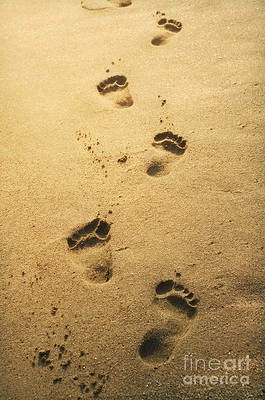human_footprint: (137, 272, 207, 373), (68, 210, 122, 293), (149, 127, 194, 184), (148, 14, 190, 51), (97, 72, 133, 108)
